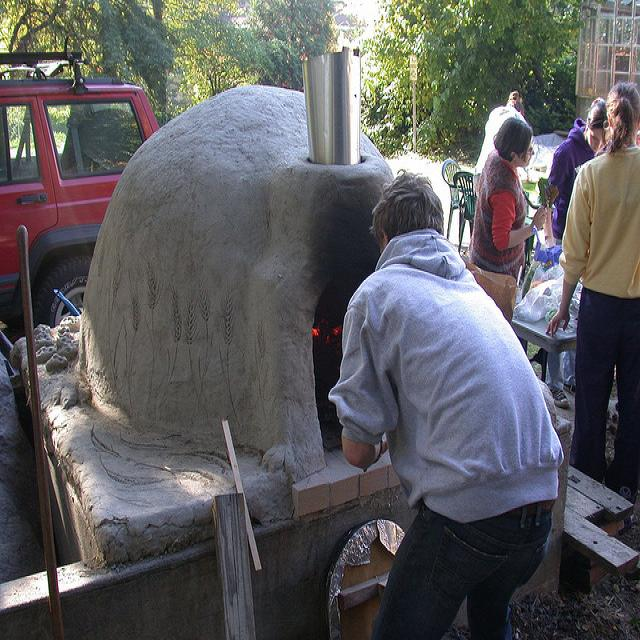Vehicle: (0, 54, 161, 318)
